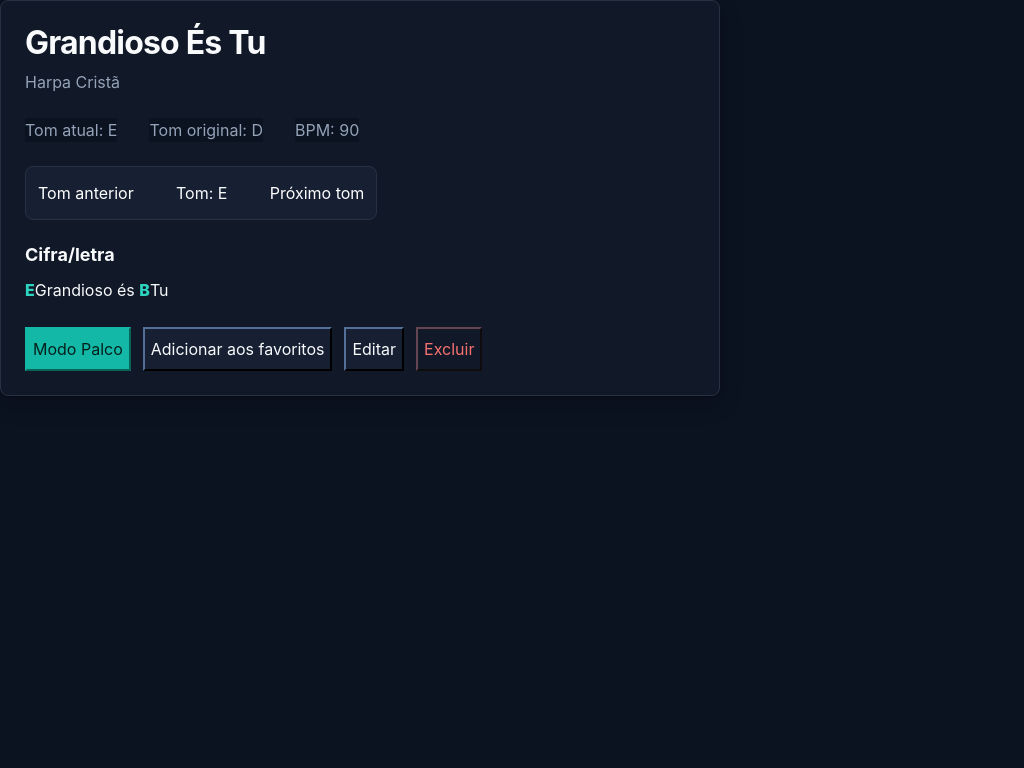
SongDetailPage › does not delete the song when deletion is cancelled
This screenshot has width=1024, height=768.
Click the button "Excluir". click: (449, 349)
box: [416,327,482,371]
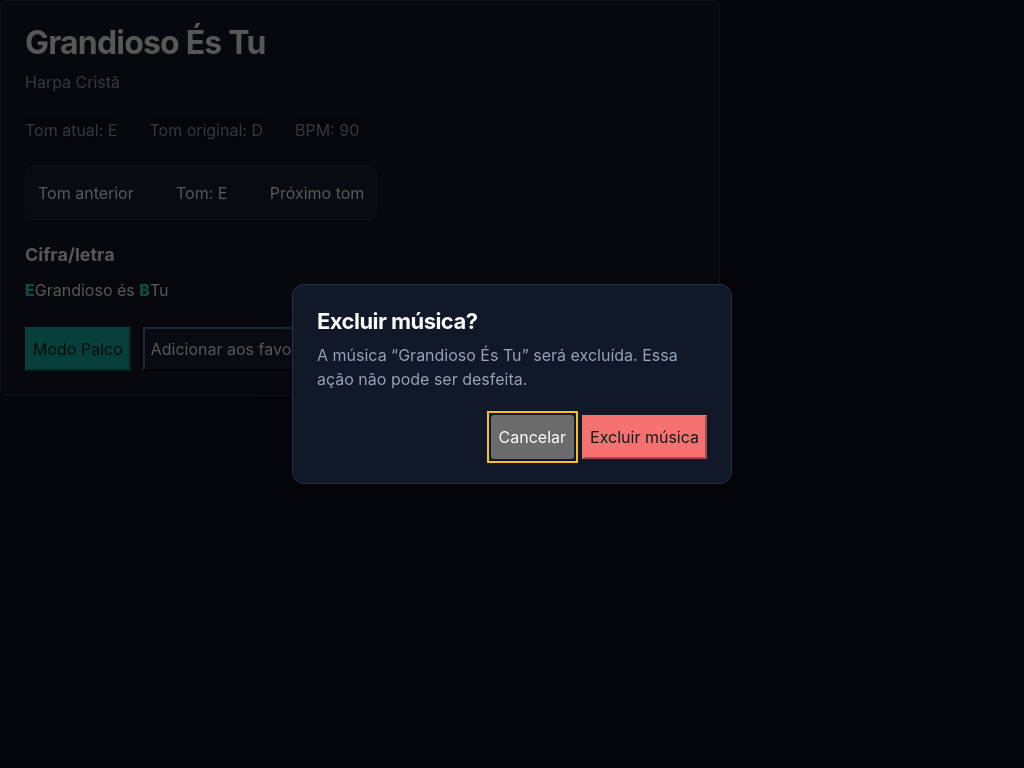
Check: the dialog is shown, box [292,284,732,484]
Check: the dialog shows "Excluir música?", box [317,308,478,334]
Check: the dialog shows "A música “Grandioso És Tu” será excluída.", box [317,345,678,389]
Click the button "Cancelar". click: (532, 437)
box: [491,415,574,459]
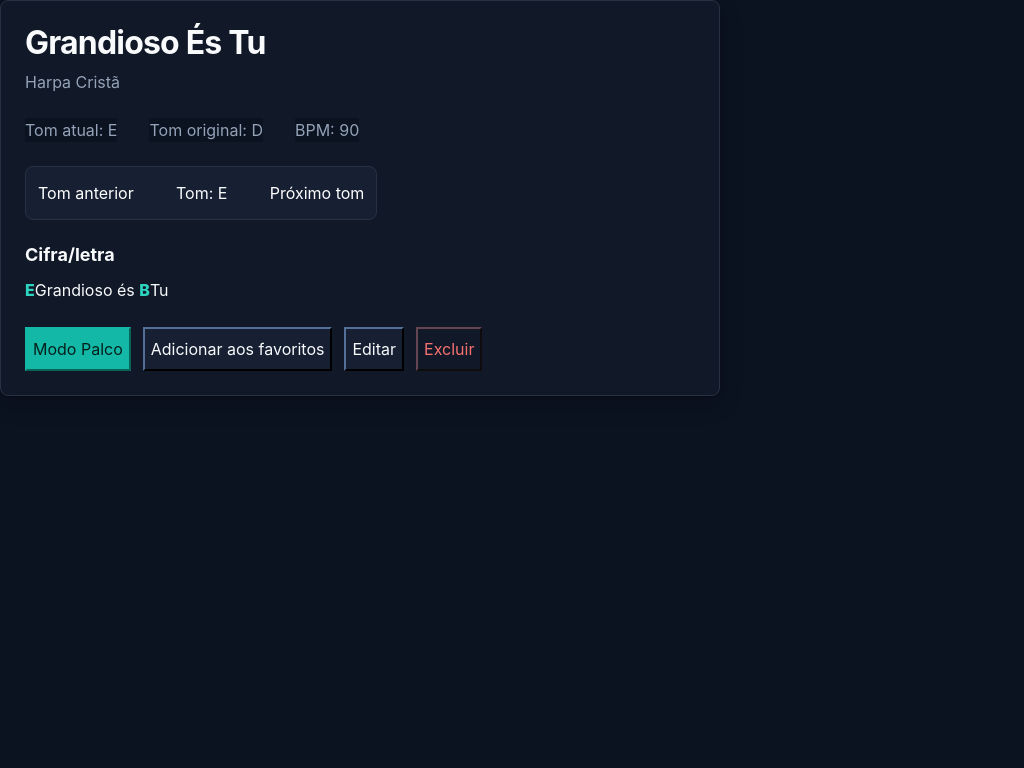
Check: the heading "Grandioso És Tu" is shown, box [25,25,266,62]
Check: the dialog is gone
